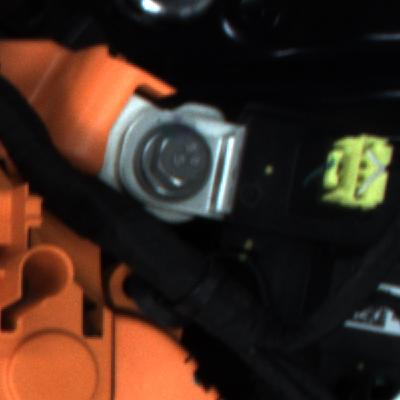nut_b: (125, 118, 222, 203)
